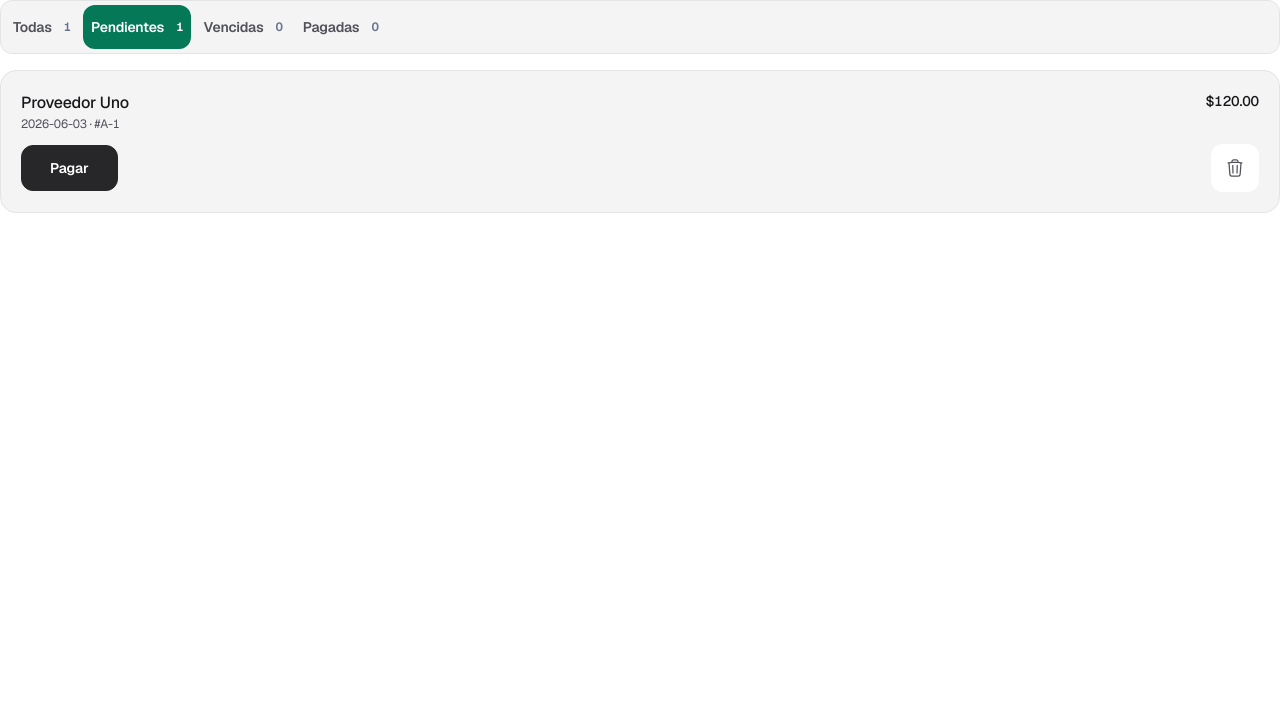
it: InvoiceList › keeps the row and shows the error when delete is blocked
The width and height of the screenshot is (1280, 720).
Click the button named "Eliminar factura" at [1235, 168], box [1211,144,1259,192]
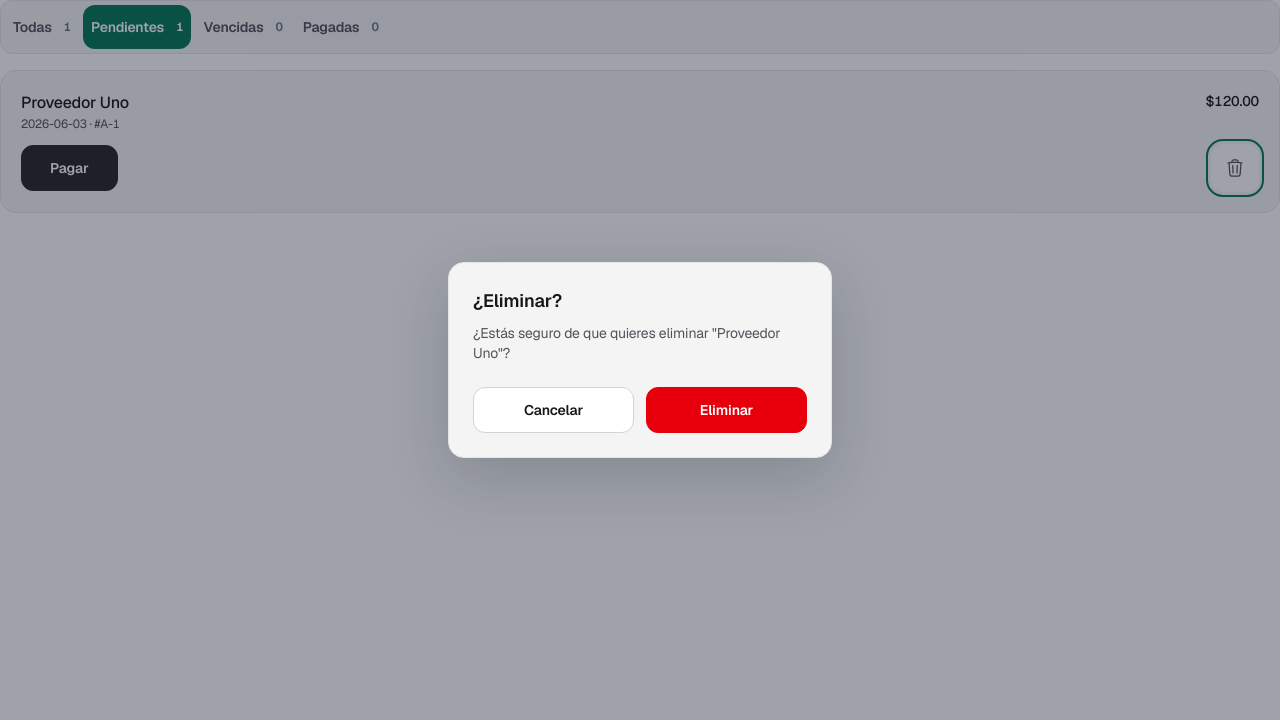
Click the button "Eliminar" at [726, 410], box [646,387,807,433]
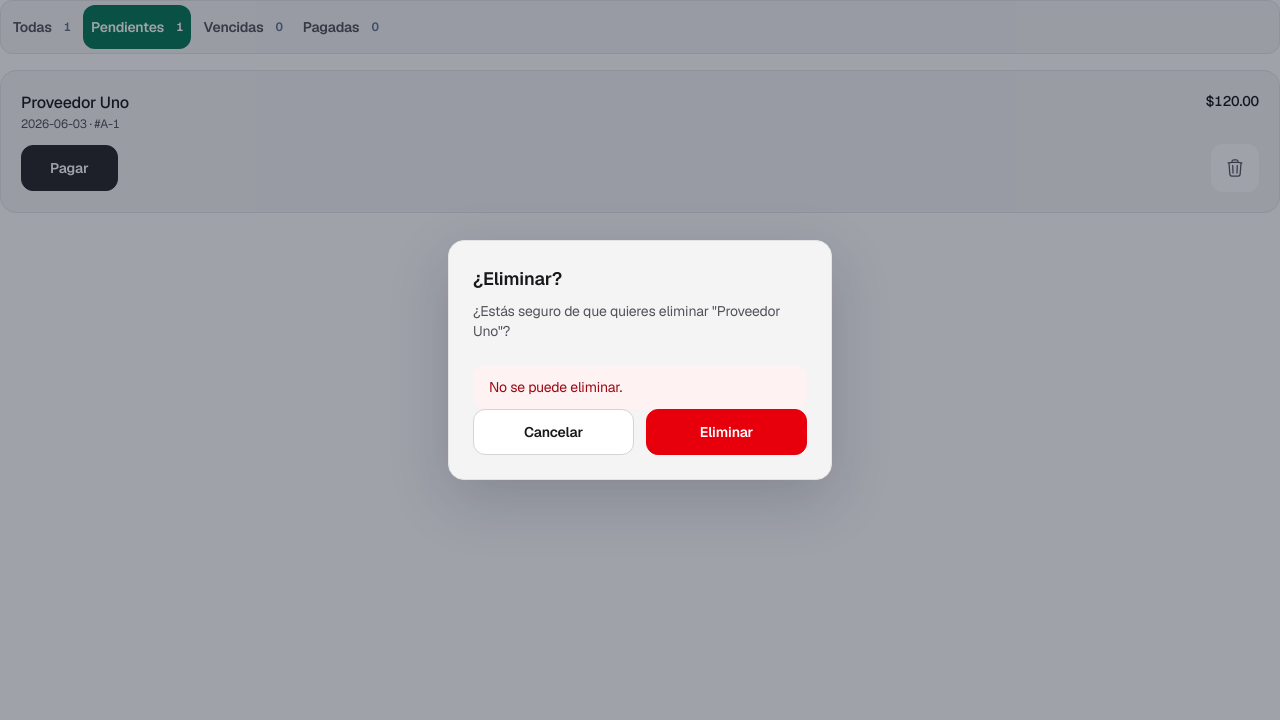
Check: the text "Proveedor Uno" is shown, box [21,91,129,116]
Check: the text "No se puede eliminar." is shown, box [473,365,807,409]
